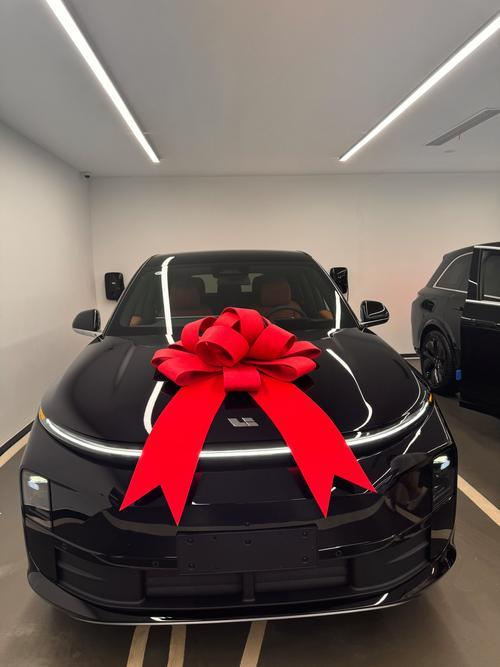Li Auto: (227, 417, 258, 427)
